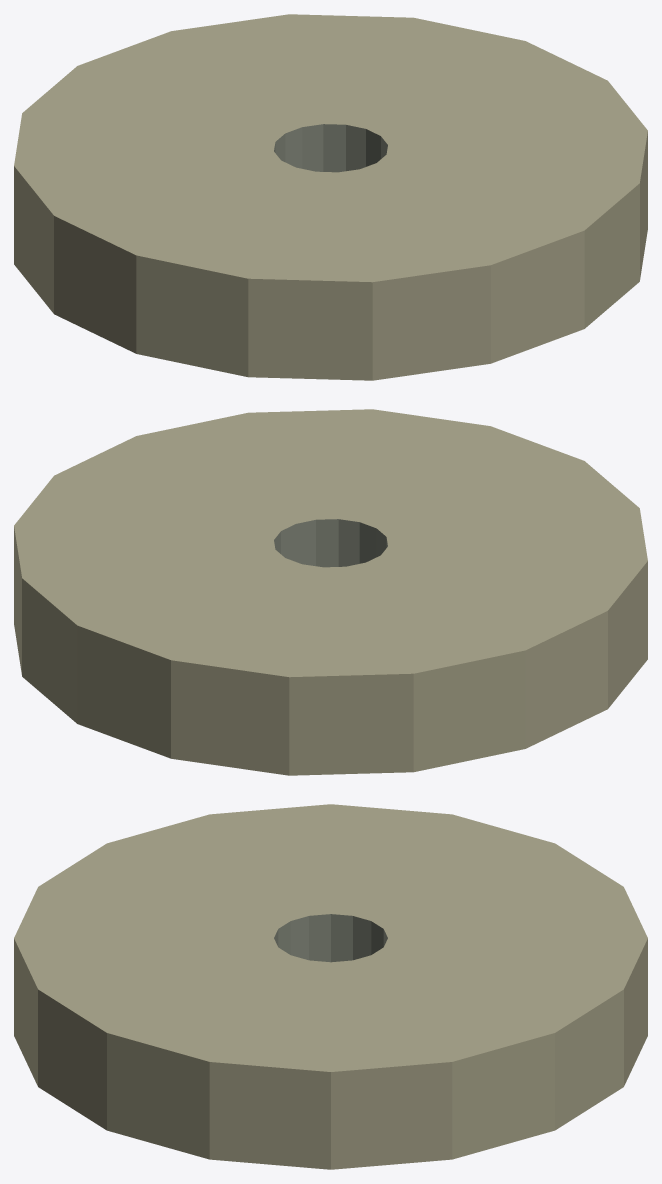
File: qc_millstone.obj
3 views of the same model, one above another, from view 1: azimuth 30°, elevation 25°; view 2: azimuth 150°, elevation 25°; view 3: azimuth 270°, elevation 25° (orthographic).
Parts seen in each view (by area): view 1: qc_millstone; view 2: qc_millstone; view 3: qc_millstone.
Part boxes in pixels (x1,y1,x2,y2): qc_millstone: (14, 14, 647, 380); qc_millstone: (14, 409, 647, 775); qc_millstone: (14, 804, 647, 1169).
Bounding box in the file's own units: 1 × 0.17 × 1.
